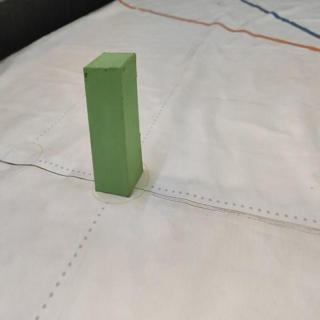greenbox: (82, 52, 143, 196)
